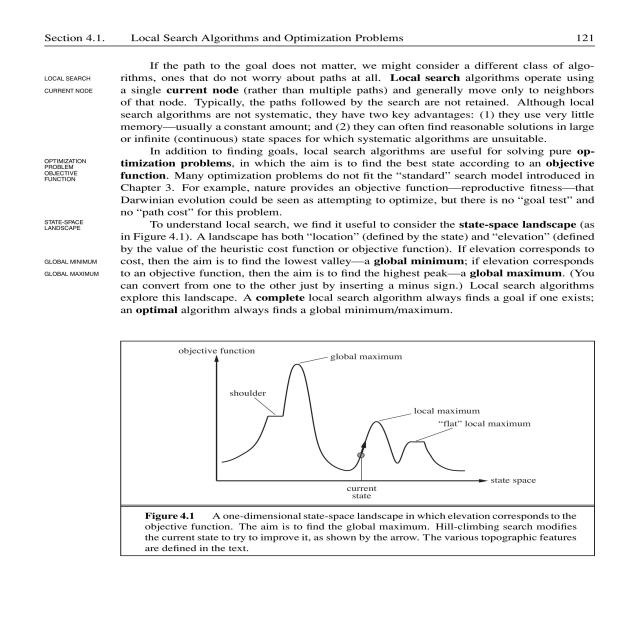diagram: (124, 346, 593, 554)
